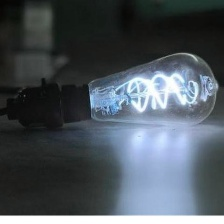light_bulb: (0, 50, 223, 138)
